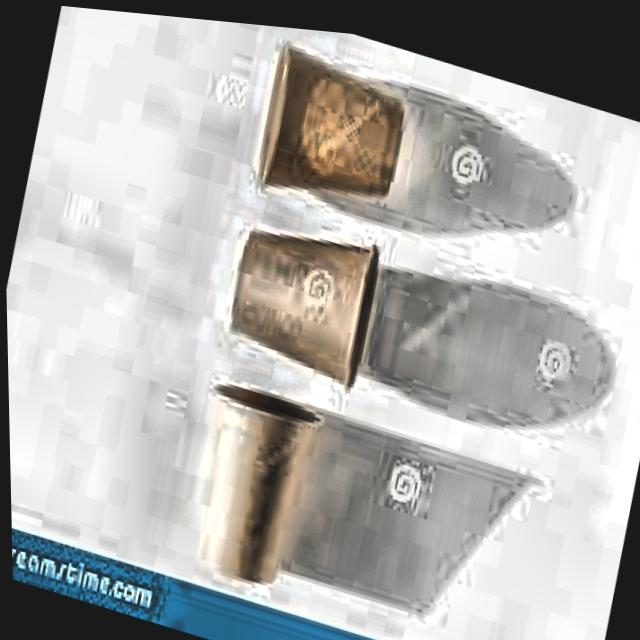Cup: (168, 364, 329, 598), (240, 34, 420, 235), (215, 195, 389, 400)
